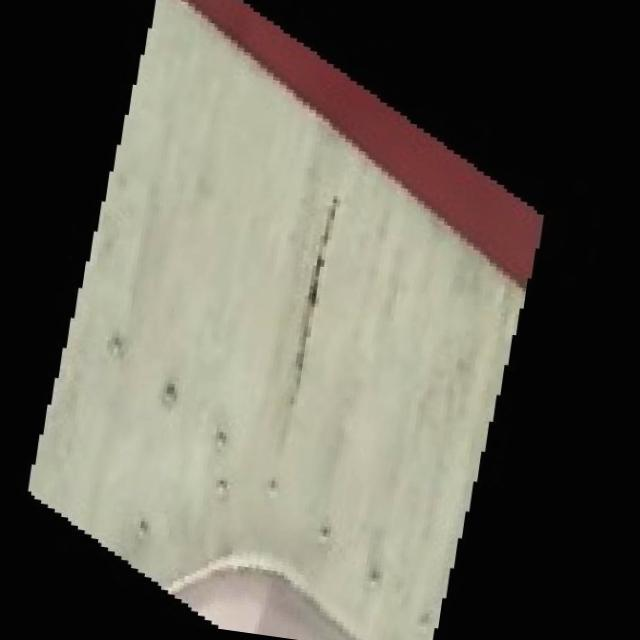crack: (263, 173, 351, 465)
